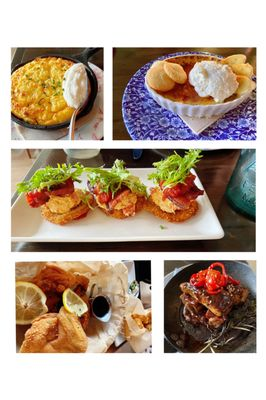sushi: (144, 52, 256, 134), (163, 260, 256, 352)
